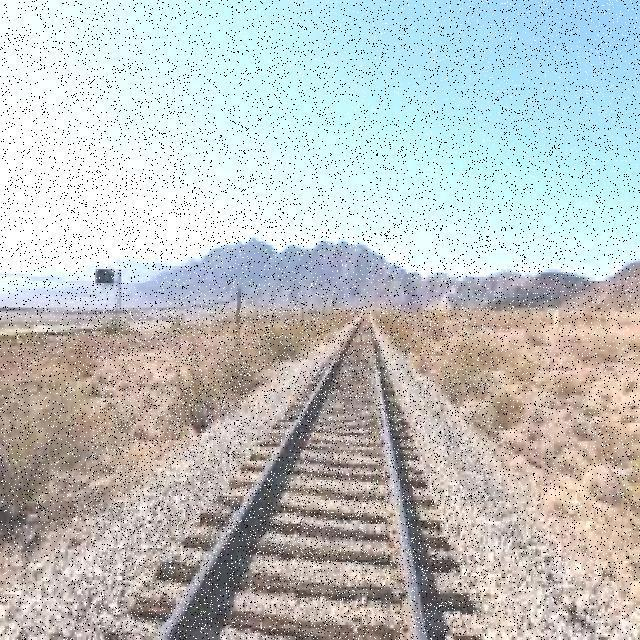rail: (93, 309, 490, 639)
